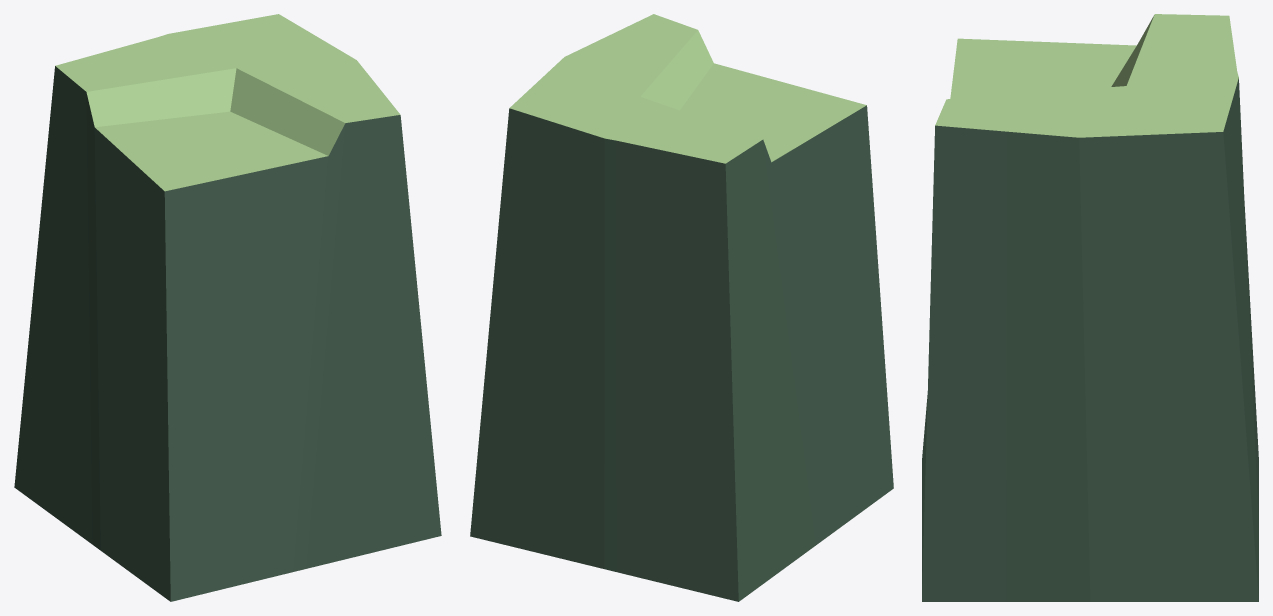
File: Island02.fbx
3 views of the same model, side by side, from view 1: azimuth 30°, elevation 25°; view 2: azimuth 150°, elevation 25°; view 3: azimuth 270°, elevation 25° (orthographic). The views are drawn at different scales.
Visible parts, largest first — view 1: Plane.000; view 2: Plane.000; view 3: Plane.000.
Boxes of the visible parts, x1=… form: Plane.000: x1=14, y1=14, x2=441, y2=601; Plane.000: x1=470, y1=14, x2=893, y2=601; Plane.000: x1=922, y1=14, x2=1258, y2=601.
Bounding box in the file's own units: 100 × 150 × 100.
